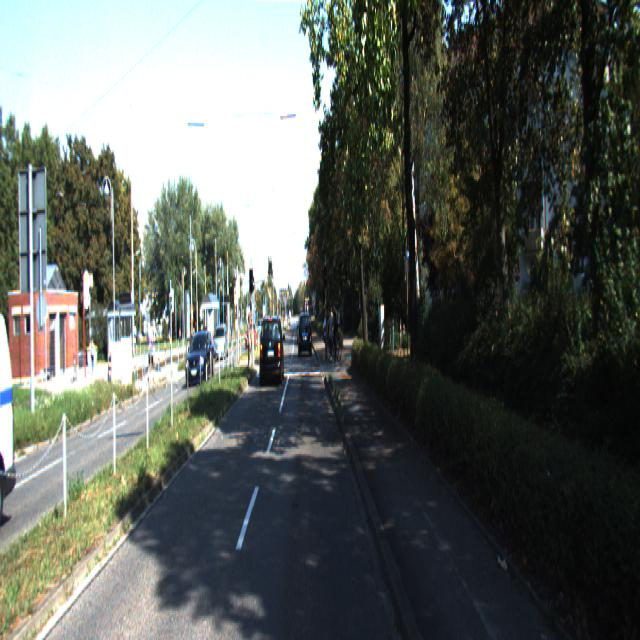Car: (0, 302, 21, 522), (260, 314, 285, 387), (186, 329, 216, 388), (299, 312, 313, 358)
